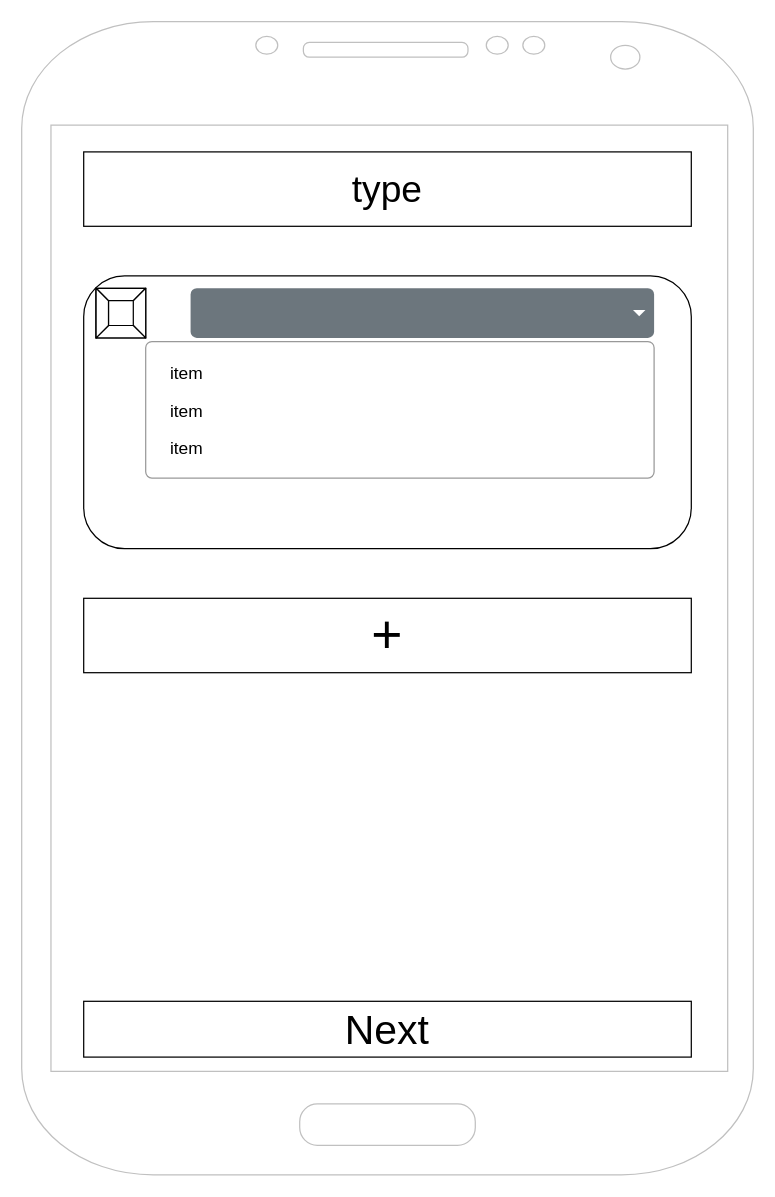
The diagram is 775 pixels wide and 1197 high, and some of its shapes have lost their labels. The centre of each missing label's shape, as x and y in pixels:
"layer" belongs at (x=120, y=312).
"layers can be placed" belongs at (x=421, y=312).
